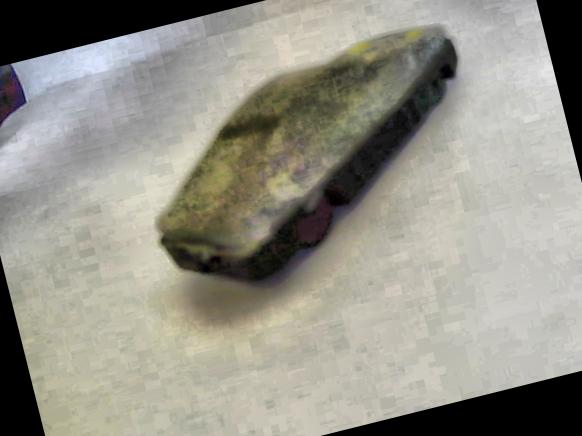normal_car: (118, 18, 499, 308)
